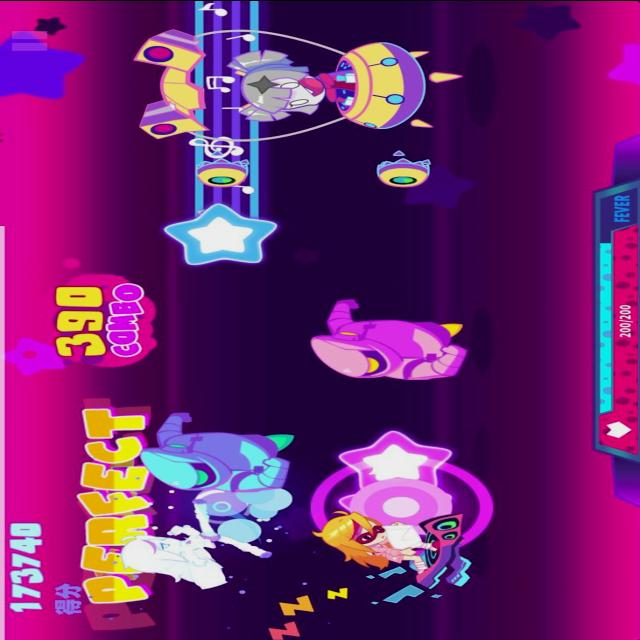hold: (161, 0, 280, 266), (338, 432, 454, 521)
jiqireng: (304, 294, 476, 382), (139, 408, 295, 496)
qiangboss: (130, 26, 466, 182)
